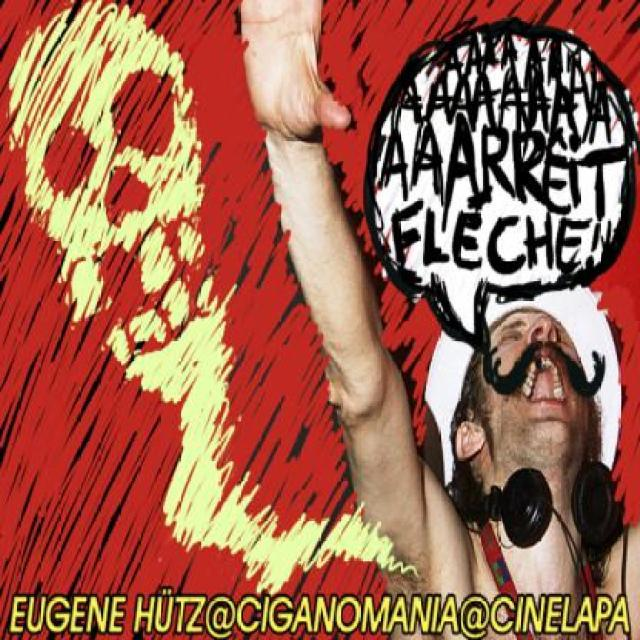earphone: (465, 447, 635, 560)
